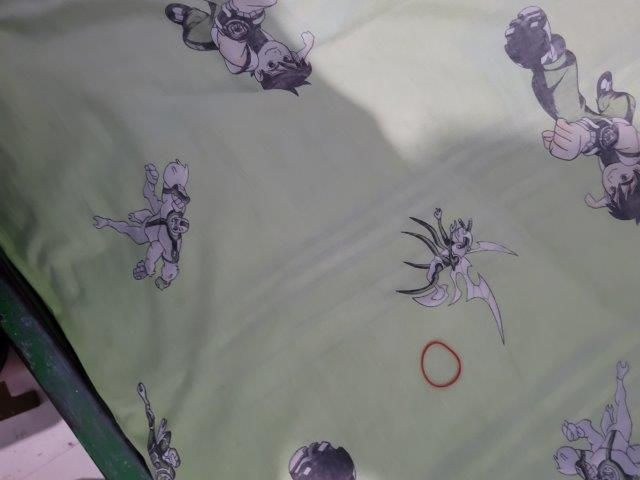karet: (421, 340, 462, 389)
